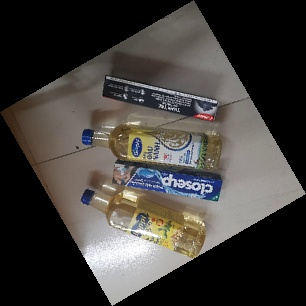CloseUp Tuyet: (112, 161, 223, 203)
Colgate Than: (101, 73, 221, 123)
Happy Soya: (80, 187, 207, 258)
Simply: (80, 125, 223, 171)
